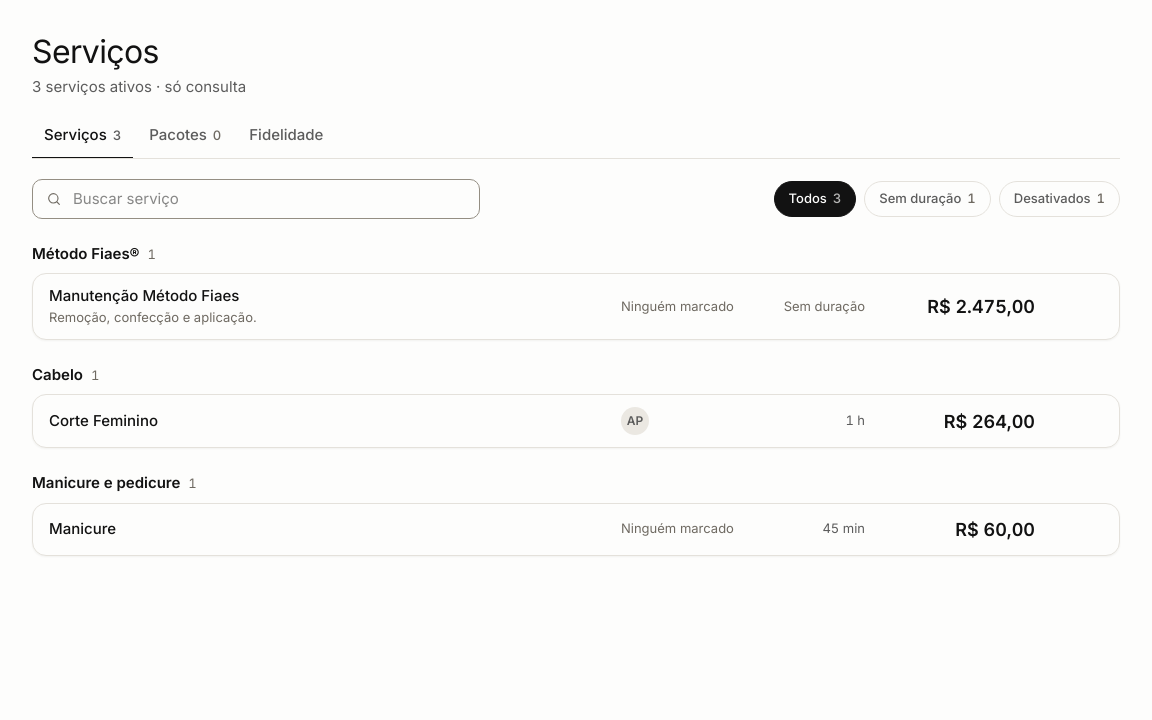
Test case: atendente só consulta: sem Novo serviço, sem campo de preço nem interruptor; o painel mostra os dados
The width and height of the screenshot is (1152, 720).
Expected: the text "R$ 264,00" is shown, [944, 410, 1035, 432]
Click the button "Corte Feminino": (103, 420) [49, 411, 601, 431]
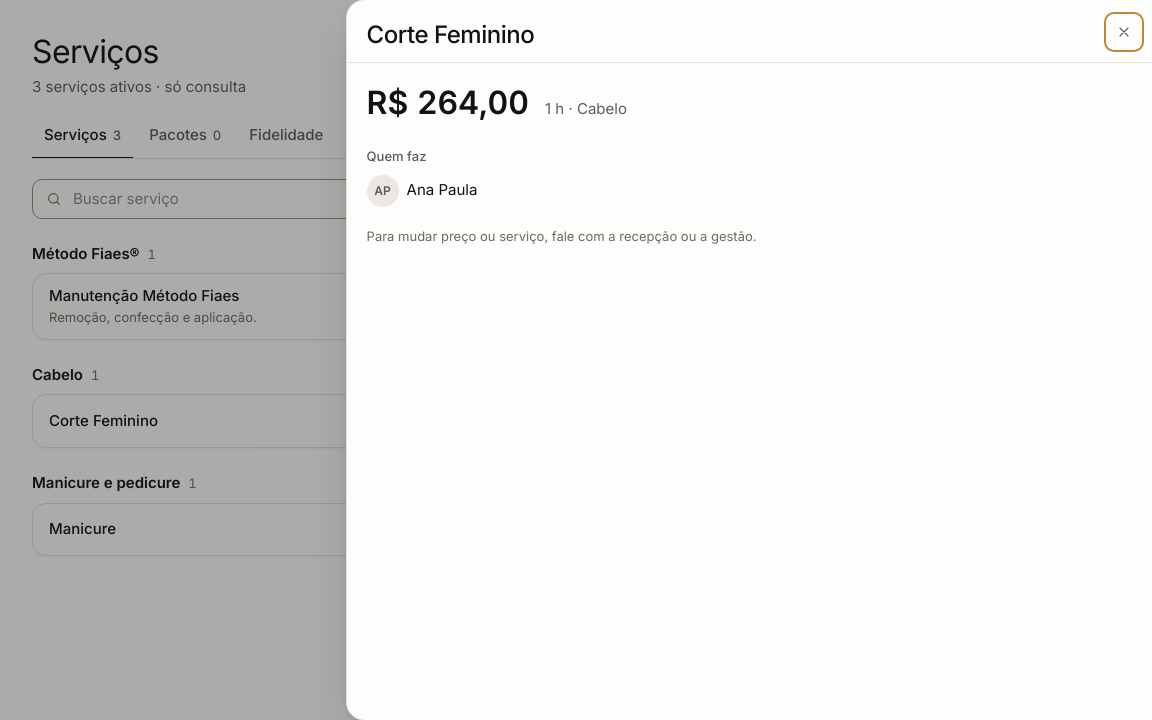
Result: the text "Ana Paula" is shown at [407, 179, 477, 202]
